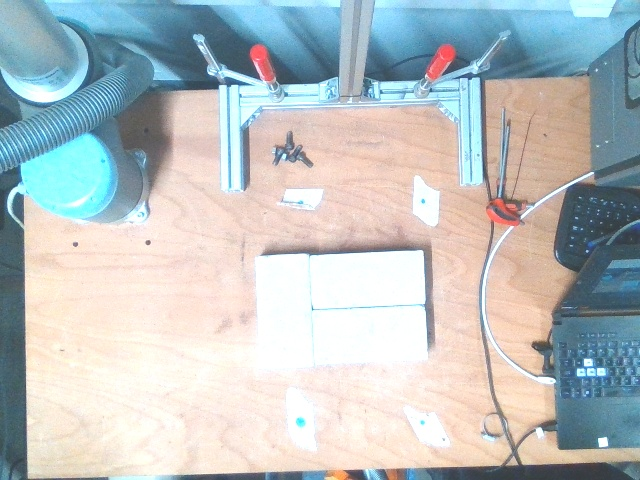brick: (311, 250, 425, 307), (313, 307, 427, 363), (257, 255, 312, 368)
